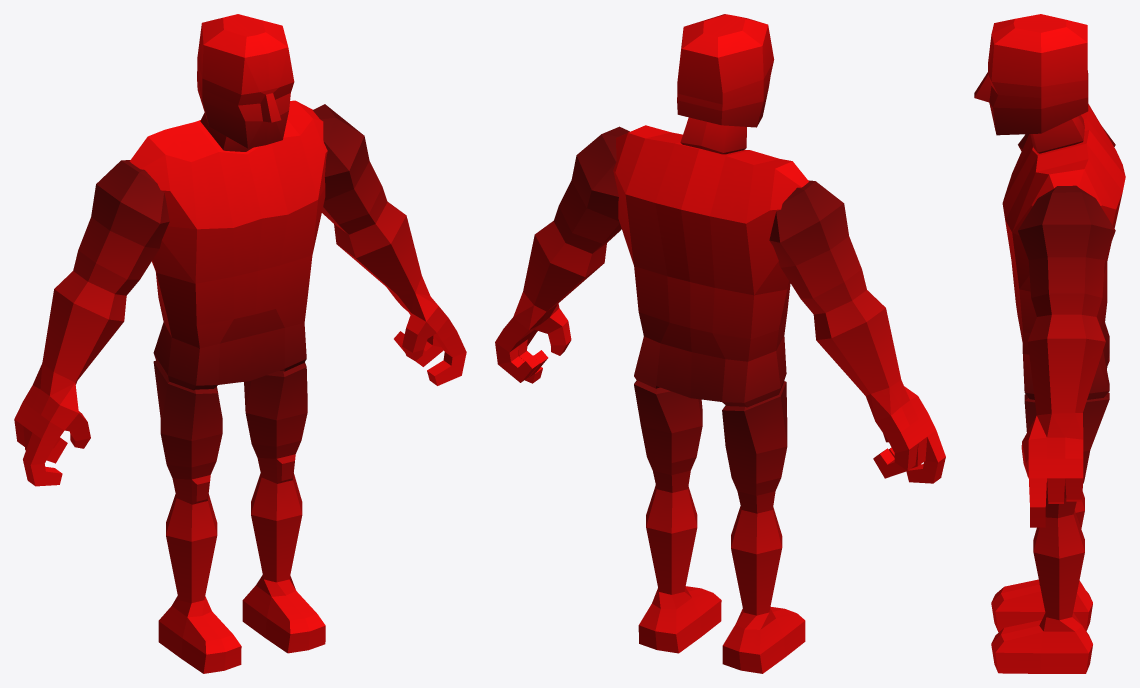
Rendered from dummy_001.fbx.
The picture shows the model from 3 angles, left to right: view 1: azimuth 30°, elevation 25°; view 2: azimuth 150°, elevation 25°; view 3: azimuth 270°, elevation 25°; orthographic projection.
Visible parts, largest first — view 1: dummy.001; view 2: dummy.001; view 3: dummy.001.
Boxes of the visible parts, x1,y1,x2,y2 form: dummy.001: (14, 14, 466, 673); dummy.001: (495, 14, 945, 673); dummy.001: (974, 14, 1125, 673).
Bounding box in the file's own units: 371 × 503 × 111.
